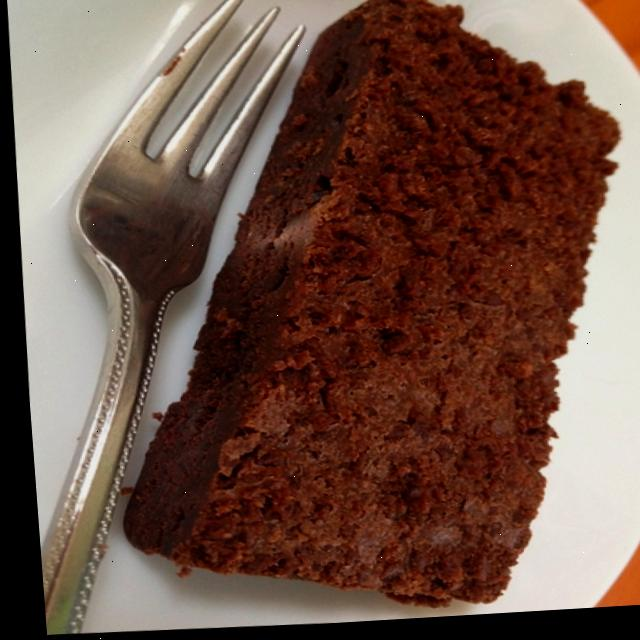蛋糕甜品: (22, 0, 640, 639)
